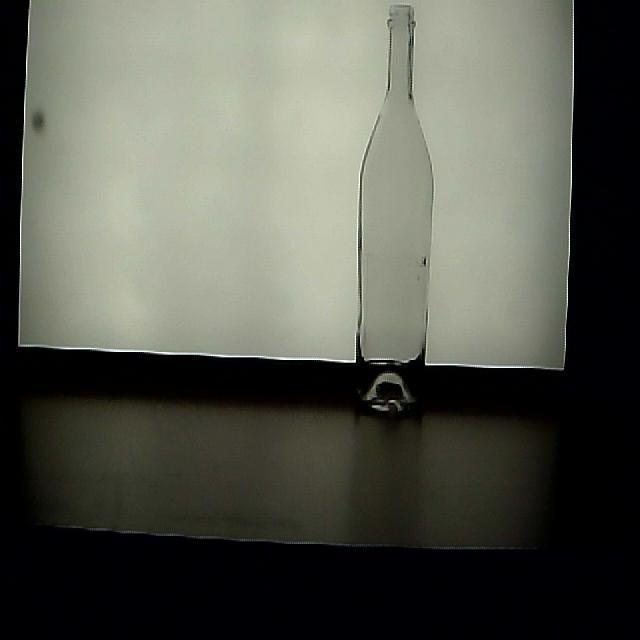Glass: (354, 3, 434, 428)
